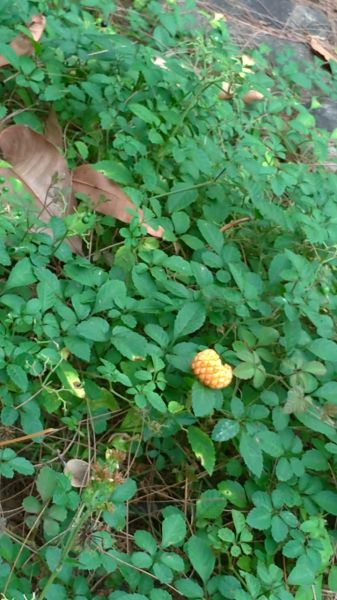eggs: (189, 346, 236, 394)
